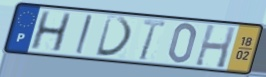0: (166, 22, 198, 65)
D: (94, 15, 134, 59)
H: (193, 23, 238, 70), (28, 10, 74, 54)
I: (73, 13, 94, 56)
T: (137, 18, 168, 62)
